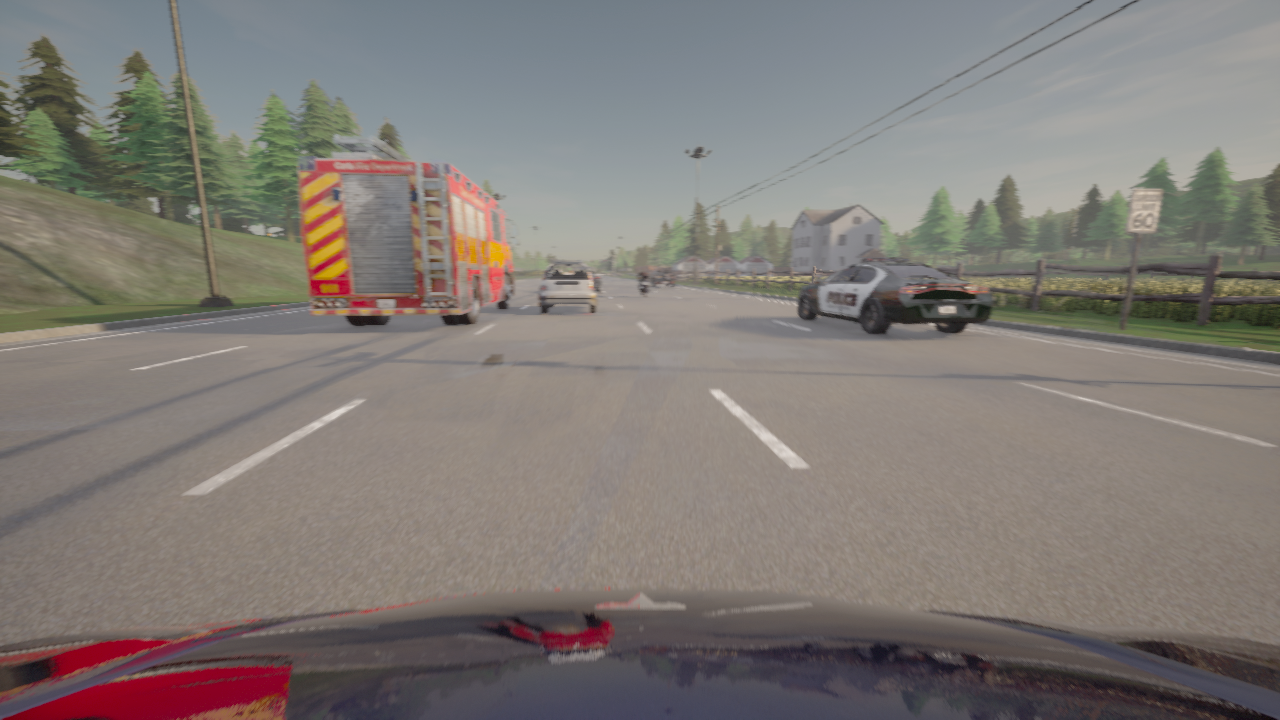cyclist: (0, 588, 1279, 719), (298, 135, 518, 326), (797, 259, 992, 334), (539, 261, 596, 313), (649, 267, 675, 287), (634, 274, 650, 297), (587, 267, 600, 292)
